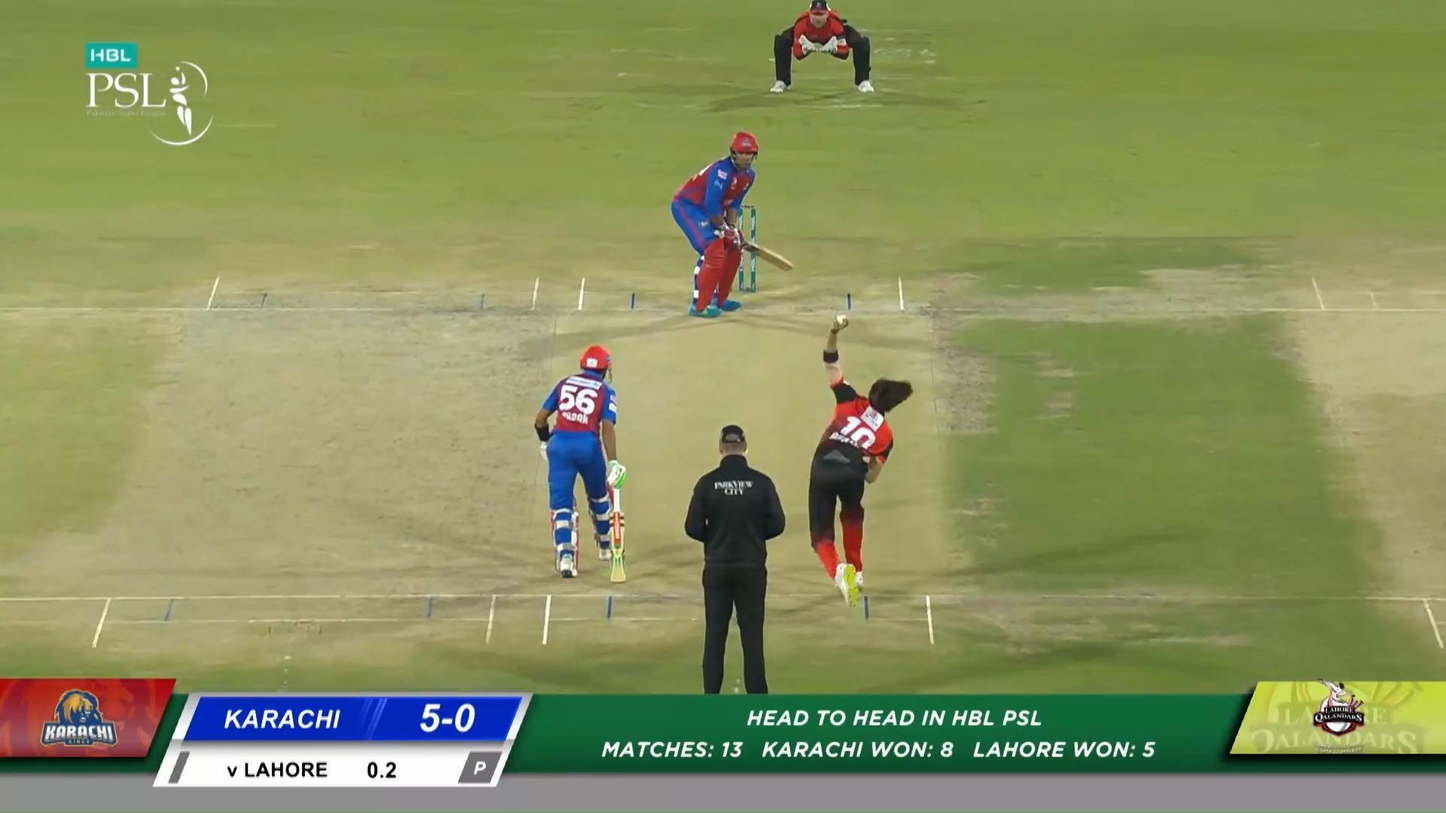BM 1: (670, 130, 795, 319)
BO: (805, 315, 914, 610)
